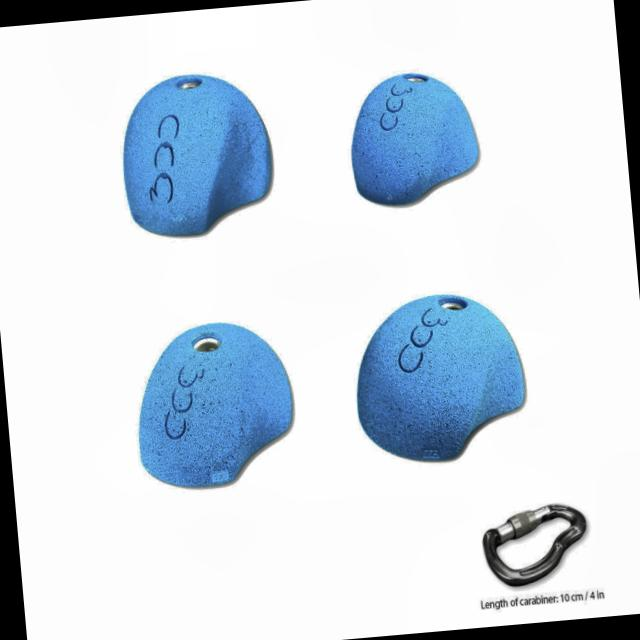Hold: (348, 285, 534, 472), (130, 315, 301, 494), (116, 65, 280, 244), (342, 60, 484, 207)
